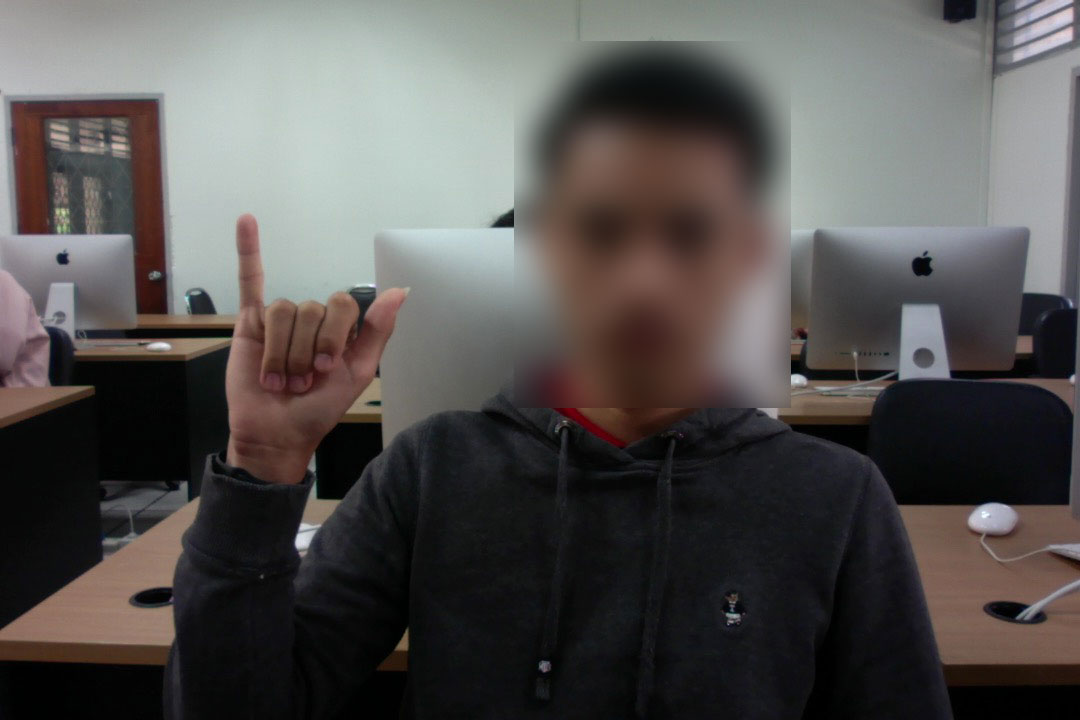yor: (221, 207, 412, 471)
